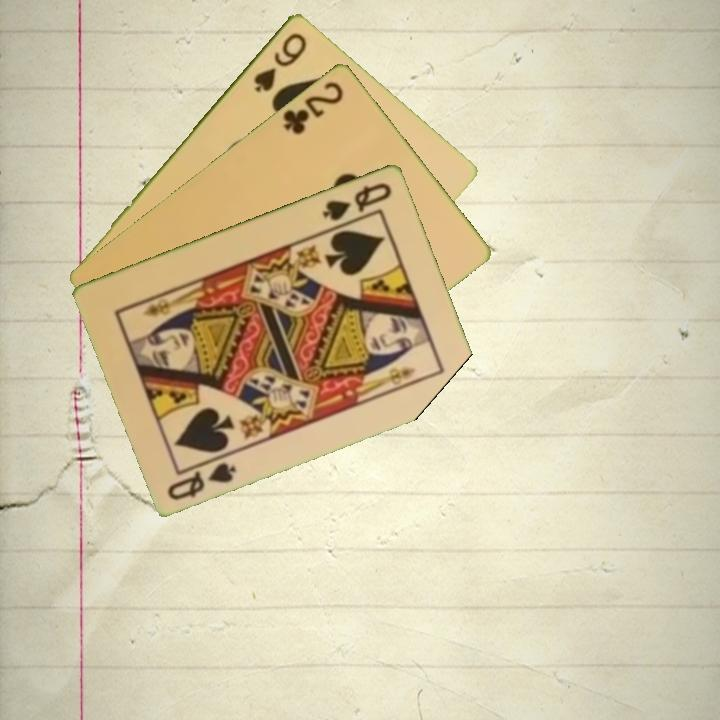2c: (279, 77, 347, 137)
9s: (250, 28, 310, 95)
Qs: (164, 450, 239, 503), (318, 178, 395, 223)
